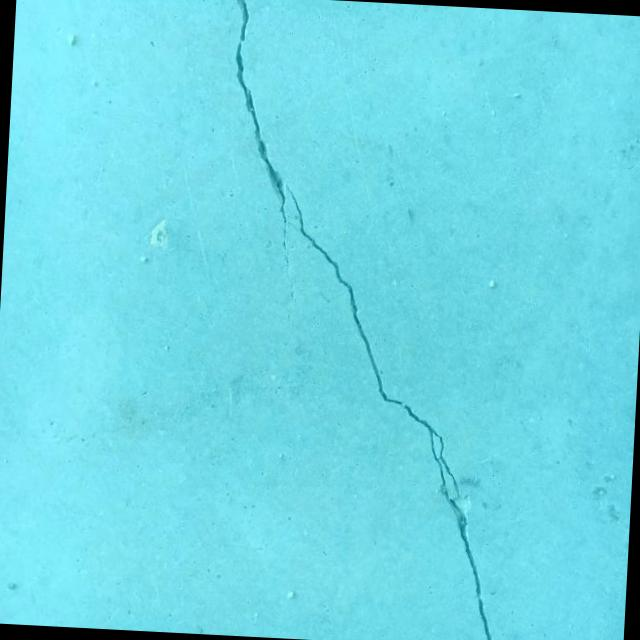crack: (200, 0, 529, 640)
